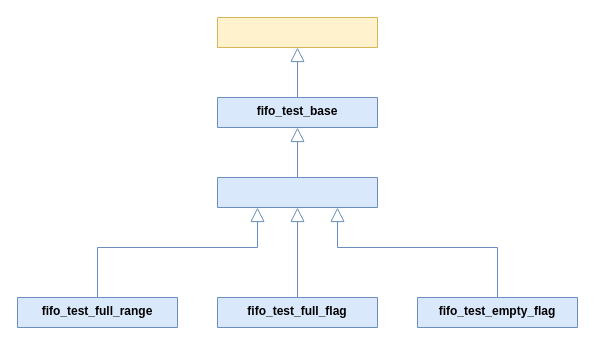
The diagram is 595 pixels wide and 345 high, and some of its shapes have lost their labels. Each missing label, with the centre of its shape:
"fifo_test_random" goes at point 297,192.
"uvm_test" goes at point 297,32.
